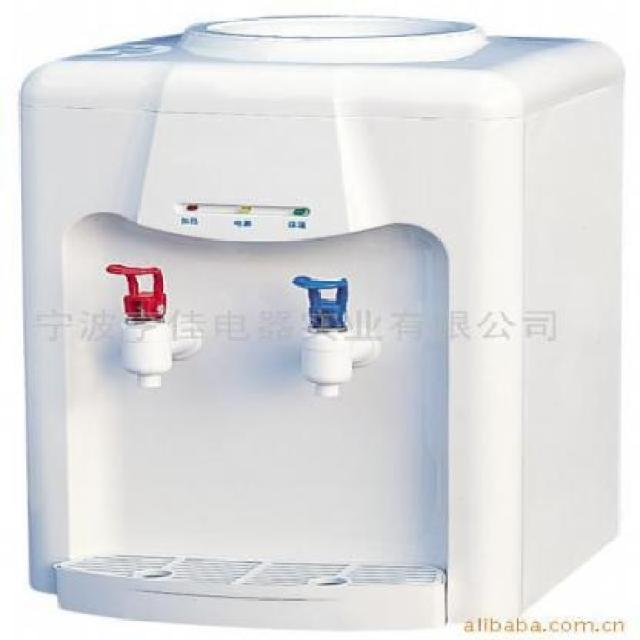cooler: (16, 12, 624, 636)
